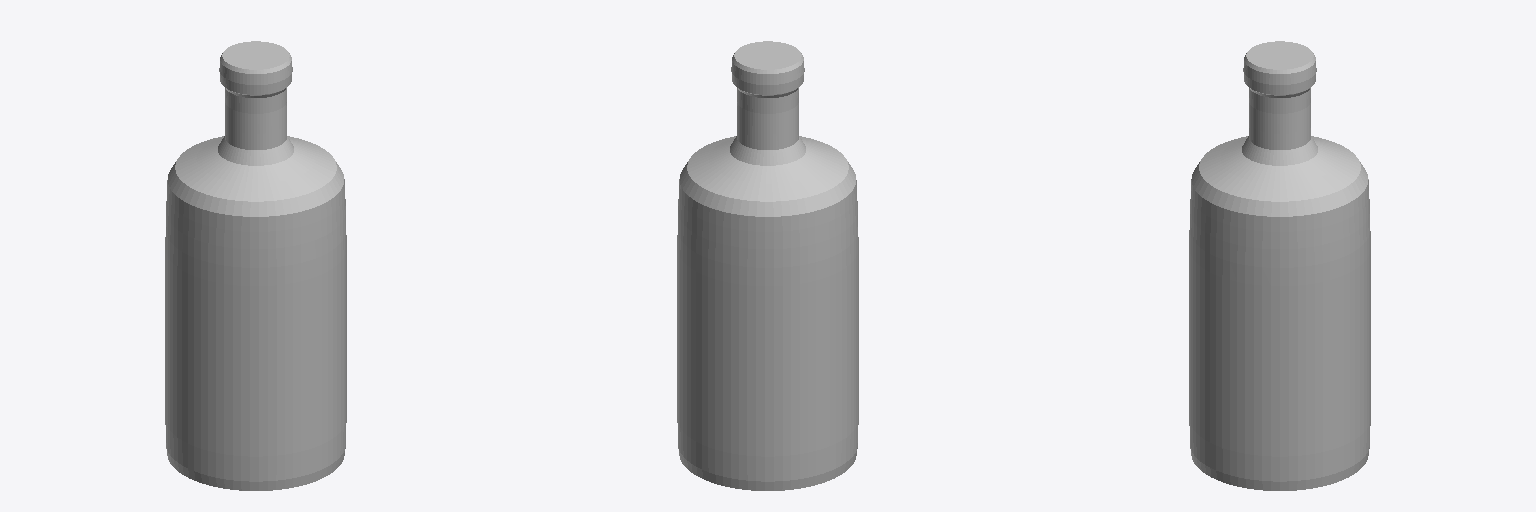
File: butelka mniejsza.obj
3 views of the same model, side by side, from view 1: azimuth 30°, elevation 25°; view 2: azimuth 150°, elevation 25°; view 3: azimuth 270°, elevation 25° (orthographic).
Parts seen in each view (by area): view 1: Cylinder.028_Cylinder.031; view 2: Cylinder.028_Cylinder.031; view 3: Cylinder.028_Cylinder.031.
Part boxes in pixels (left/top/right/bottom): Cylinder.028_Cylinder.031: left=165, top=41, right=346, bottom=490; Cylinder.028_Cylinder.031: left=677, top=41, right=858, bottom=490; Cylinder.028_Cylinder.031: left=1189, top=41, right=1370, bottom=490.
Bounding box in the file's own units: 0.0727 × 0.1773 × 0.0727.